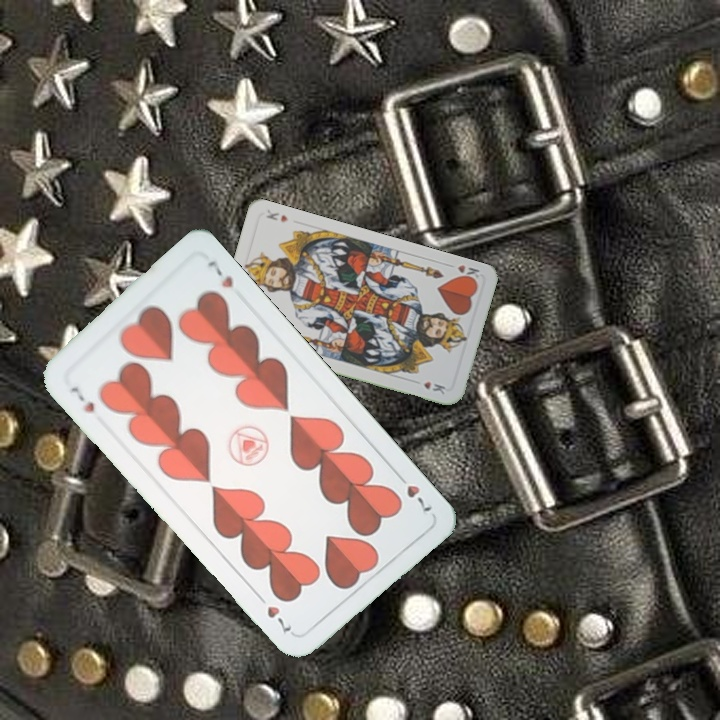H7: (392, 468, 435, 517), (66, 382, 97, 416)
HK: (443, 260, 483, 285)
